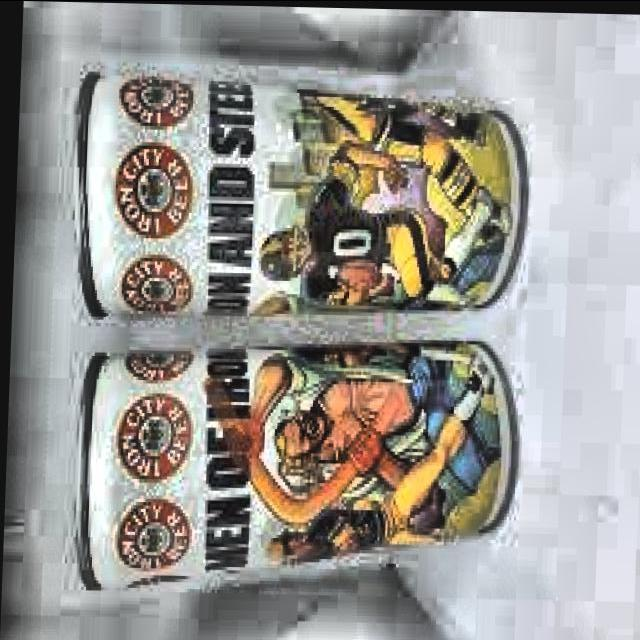Aluminum Can: (64, 322, 526, 596), (59, 64, 533, 328)
